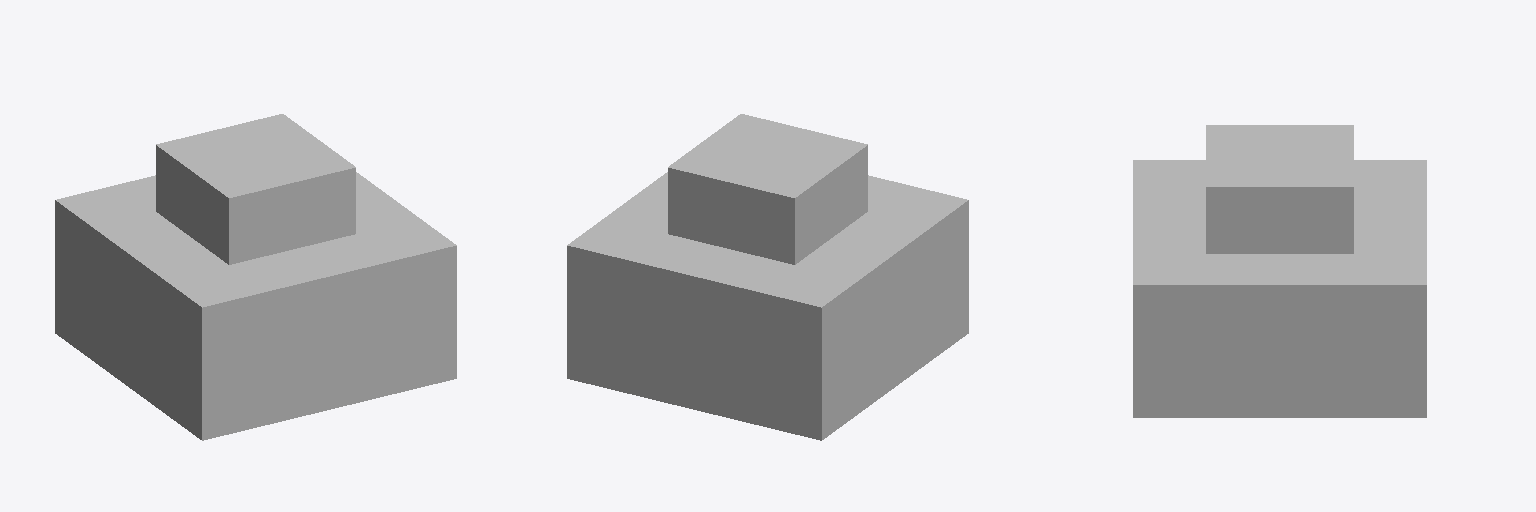
File: spellcreator.obj
The picture shows the model from 3 angles: view 1: azimuth 30°, elevation 25°; view 2: azimuth 150°, elevation 25°; view 3: azimuth 270°, elevation 25°; orthographic projection.
Parts seen in each view (by area): view 1: Base_Cube.001, Float_Cube; view 2: Base_Cube.001, Float_Cube; view 3: Base_Cube.001, Float_Cube.
Part boxes in pixels (x1,y1,x2,y2): Base_Cube.001: (55,114,456,440); Float_Cube: (156,114,355,262); Base_Cube.001: (567,114,968,440); Float_Cube: (668,114,867,263); Base_Cube.001: (1133,125,1426,417); Float_Cube: (1206,125,1353,253).
Size of the model in its own units: 2 by 1.5 by 2.